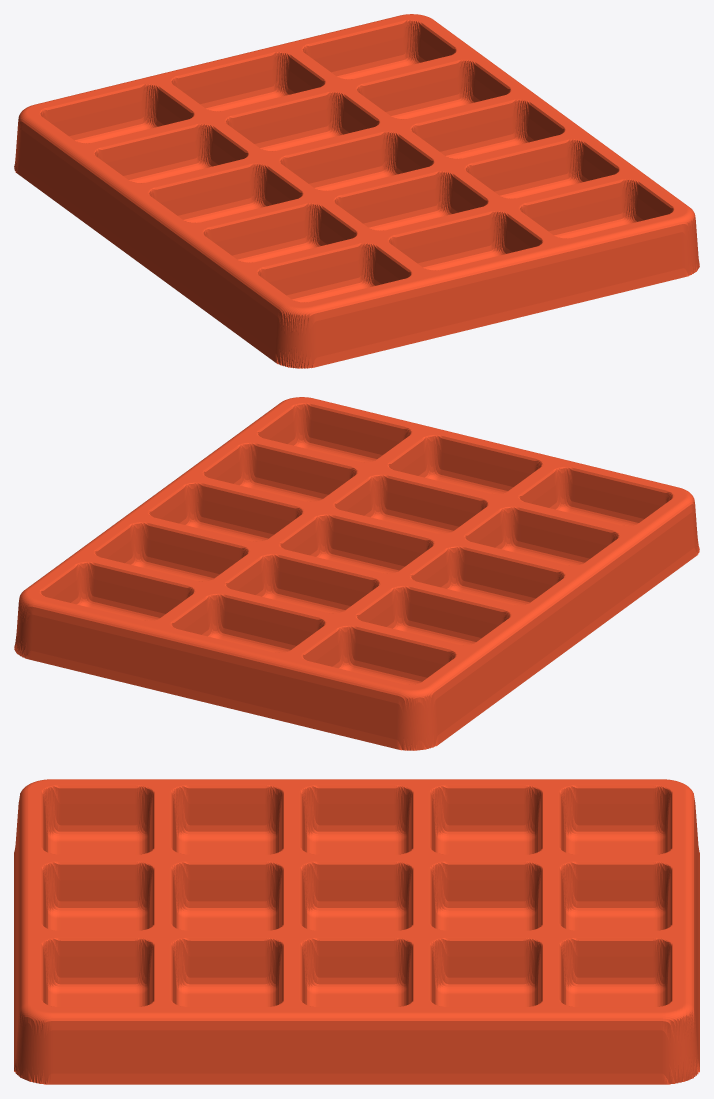
The model's file is mold.glb.
3 views of the same model, one above another, from view 1: azimuth 30°, elevation 25°; view 2: azimuth 150°, elevation 25°; view 3: azimuth 270°, elevation 25° (orthographic). The views are drawn at different scales.
Visible parts, largest first — view 1: geometry_0; view 2: geometry_0; view 3: geometry_0.
Boxes of the visible parts, left/top/right/bottom form: geometry_0: left=14, top=14, right=699, bottom=368; geometry_0: left=14, top=397, right=699, bottom=750; geometry_0: left=14, top=779, right=699, bottom=1084.
Bounding box in the file's own units: 0.1392 × 0.0175 × 0.1647.
